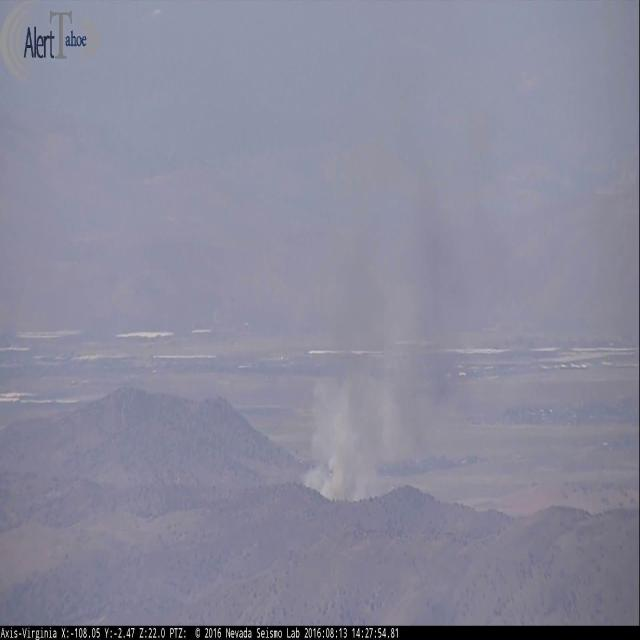smoke: (301, 32, 454, 504)
